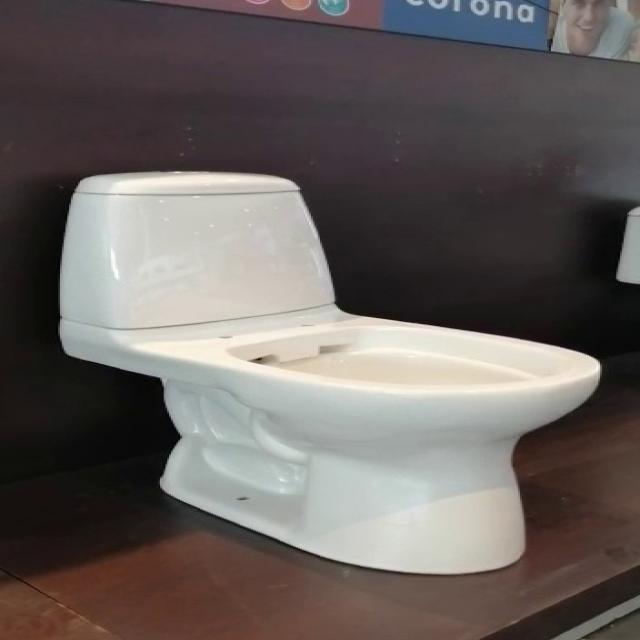toilet: (56, 168, 602, 574)
